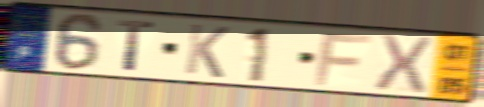1: (245, 26, 272, 83)
6: (53, 11, 105, 73)
F: (311, 32, 375, 87)
K: (182, 21, 232, 80)
T: (114, 17, 157, 74)
X: (372, 32, 435, 95)
